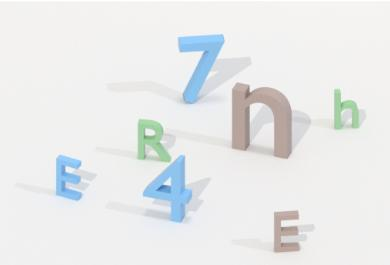4: (141, 153, 193, 227)
7: (173, 28, 227, 110)
E: (51, 150, 88, 206), (271, 207, 303, 258)
R: (133, 115, 173, 166)
h: (329, 82, 364, 133)
n: (228, 77, 297, 164)
